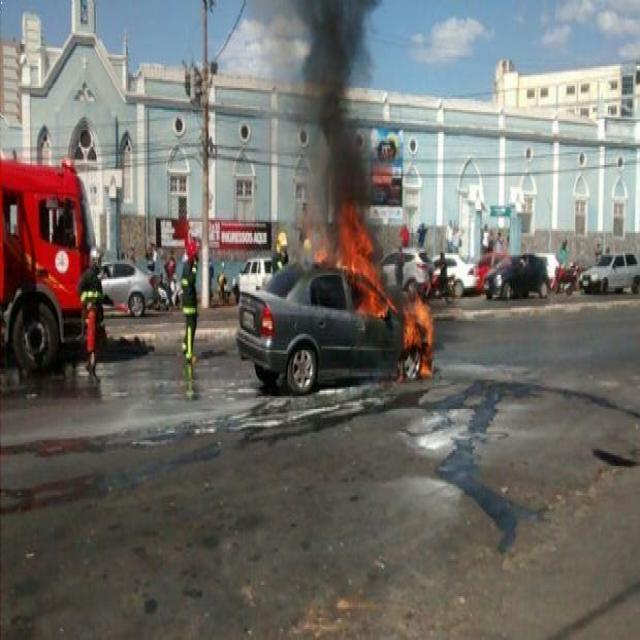Fire: (344, 220, 432, 373)
Smoke: (250, 0, 398, 291)
